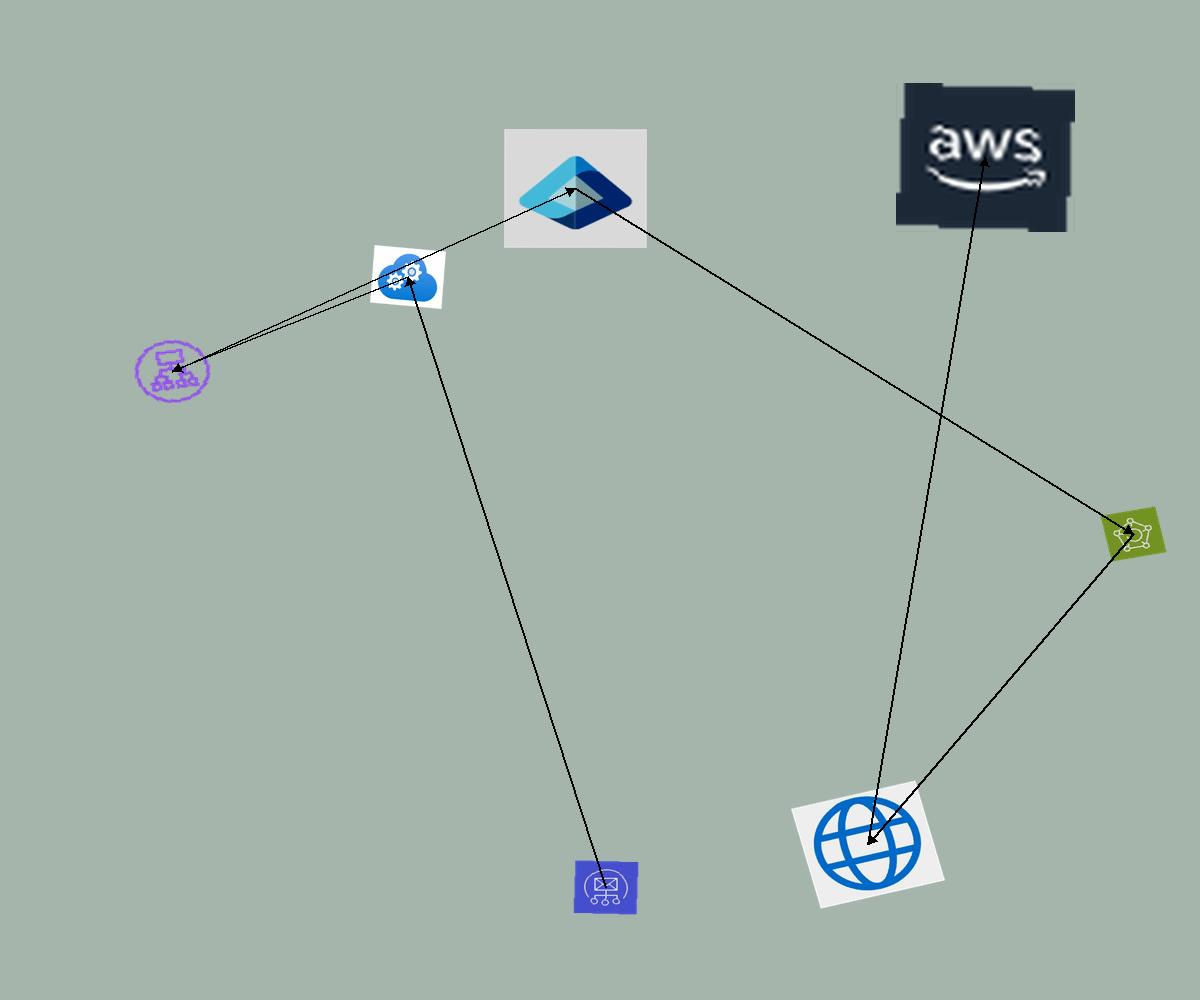AWS-Backup: (1100, 506, 1167, 562)
AWS-Cloud-logo: (896, 83, 1075, 232)
AWS-Res_Elastic-Load-Balancing_Application-Load-Balancer: (125, 332, 220, 411)
AWS-Simple-Email-Service: (573, 860, 639, 915)
Azure_cloud_services: (370, 245, 446, 309)
Azure_http: (791, 780, 945, 909)
Azure_microsoft_entra: (504, 129, 647, 248)
